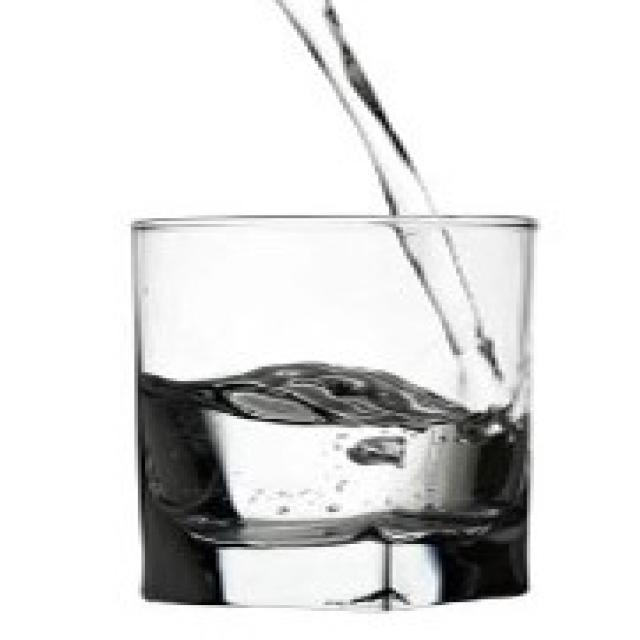electronic: (134, 214, 541, 608)
